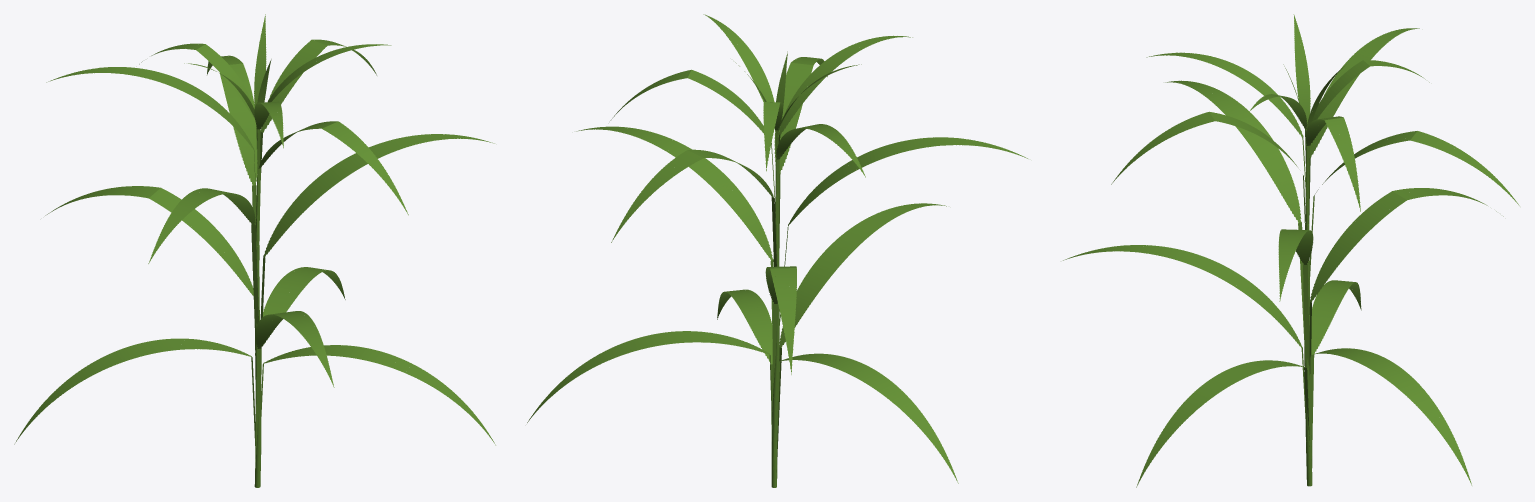
Rendered from maize_001_day_100.dae.
The picture shows the model from 3 angles, left to right: view 1: azimuth 30°, elevation 25°; view 2: azimuth 150°, elevation 25°; view 3: azimuth 270°, elevation 25°; orthographic projection. The views are drawn at different scales.
Visible parts, largest first — view 1: node; view 2: node; view 3: node.
Boxes of the visible parts, x1,y1,x2,y2 form: node: [14, 14, 495, 487]; node: [527, 14, 1027, 487]; node: [1063, 14, 1519, 487].
Size of the model in its own units: 1.75 by 1.72 by 1.65.
Materials: 1 (1 with a texture image).
